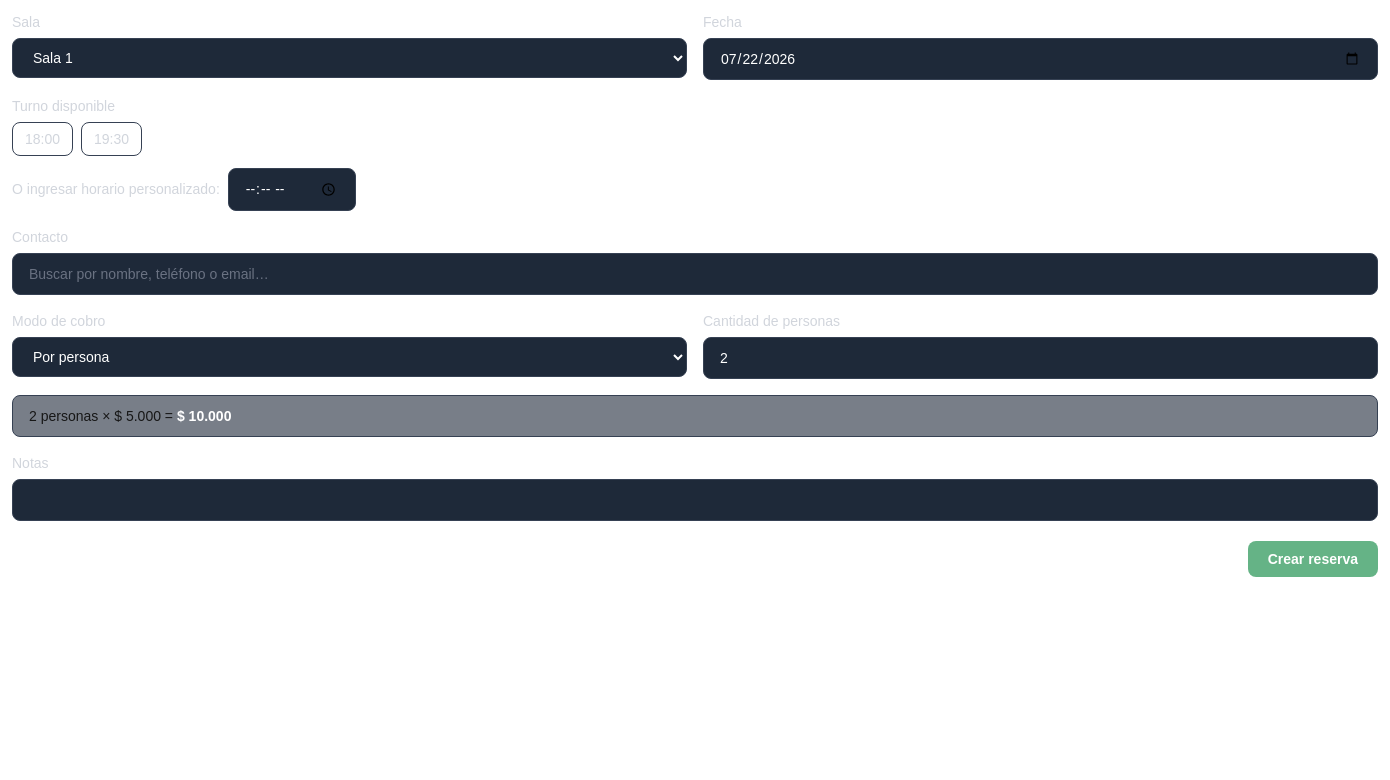
ReservaForm — turno personalizado (FIX 4) › shows an inline error for a custom time that overlaps an existing reservation
Type "18:45" into the time field labelled "O ingresar horario personalizado:". click: (292, 189)
box: [228, 168, 356, 211]
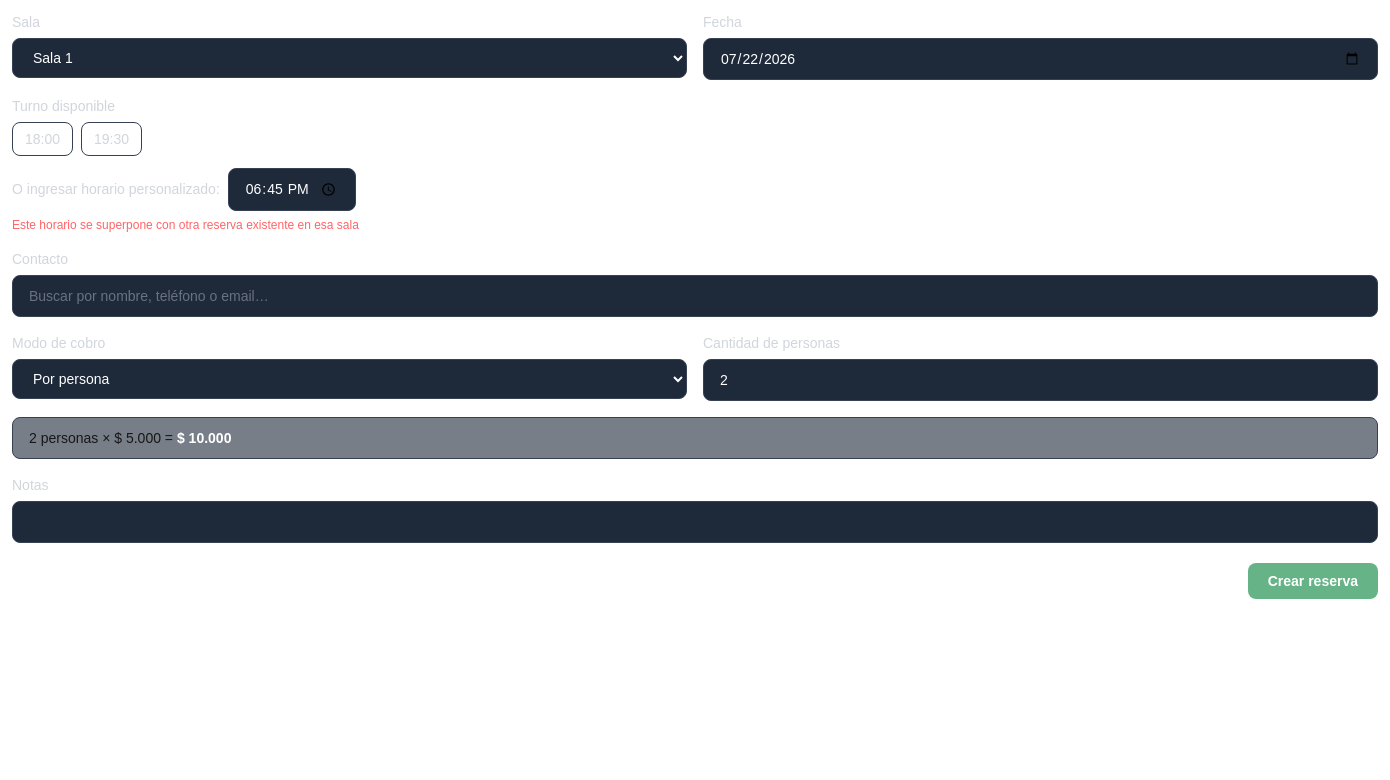
Check: the text "se superpone" is shown, box [12, 218, 359, 232]
